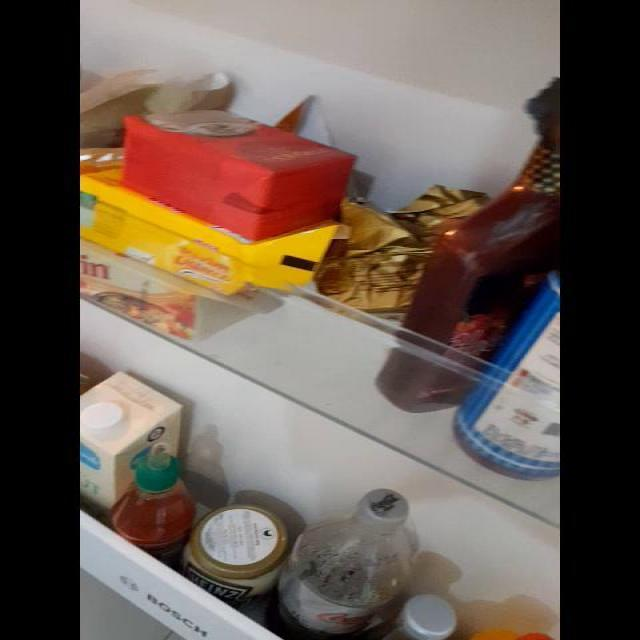butter: (79, 181, 300, 330)
milk: (80, 370, 161, 495)
sauce: (387, 131, 553, 389), (119, 445, 193, 555)
